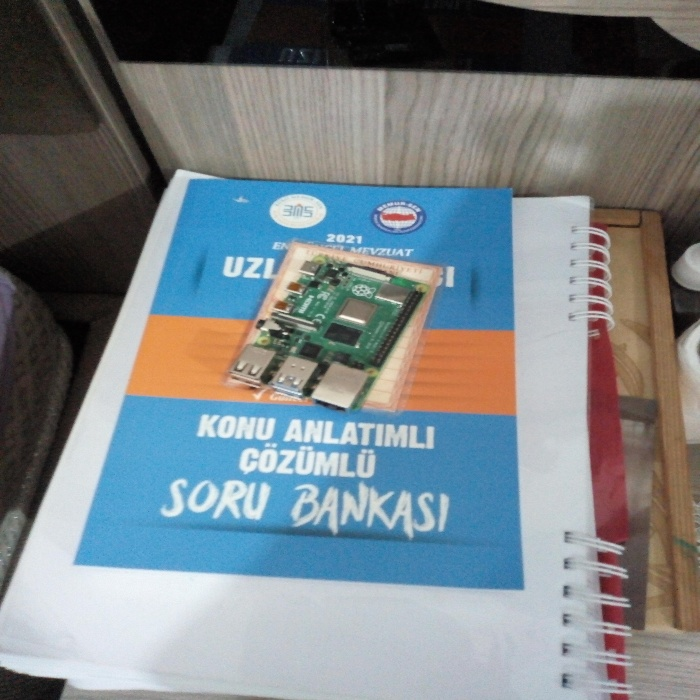raspberry: (224, 245, 445, 432)
